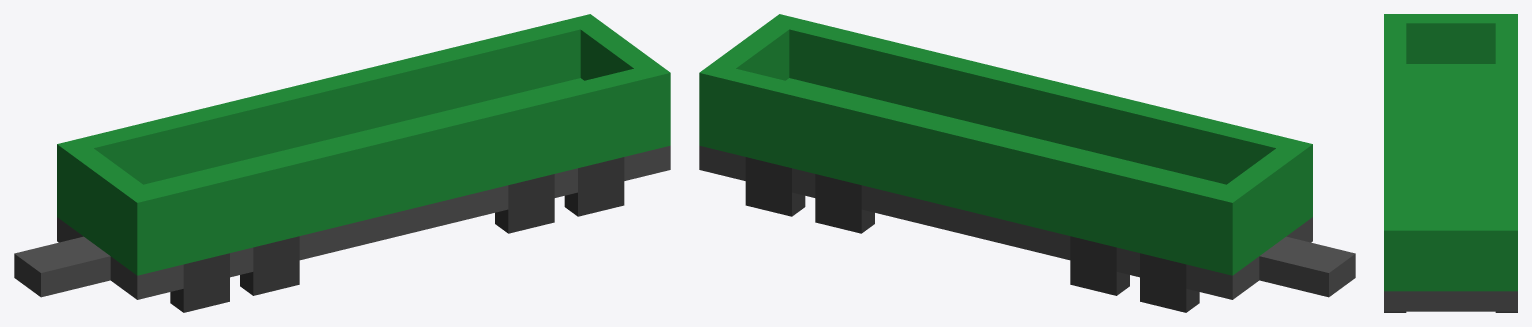
The model's file is train-trailer-v8-green.gltf.
The picture shows the model from 3 angles, left to right: view 1: azimuth 30°, elevation 25°; view 2: azimuth 150°, elevation 25°; view 3: azimuth 270°, elevation 25°; orthographic projection. The views are drawn at different scales.
Visible parts, largest first — view 1: model, wheels; view 2: model, wheels; view 3: model.
Boxes of the visible parts, x1,y1,x2,y2 form: model: (14,14,670,299); wheels: (170,157,624,312); model: (699,14,1355,299); wheels: (745,157,1199,312); model: (1384,14,1517,311).
Bounding box in the file's own units: 2.6 × 0.5 × 0.6.
2 materials, 2 textured.
